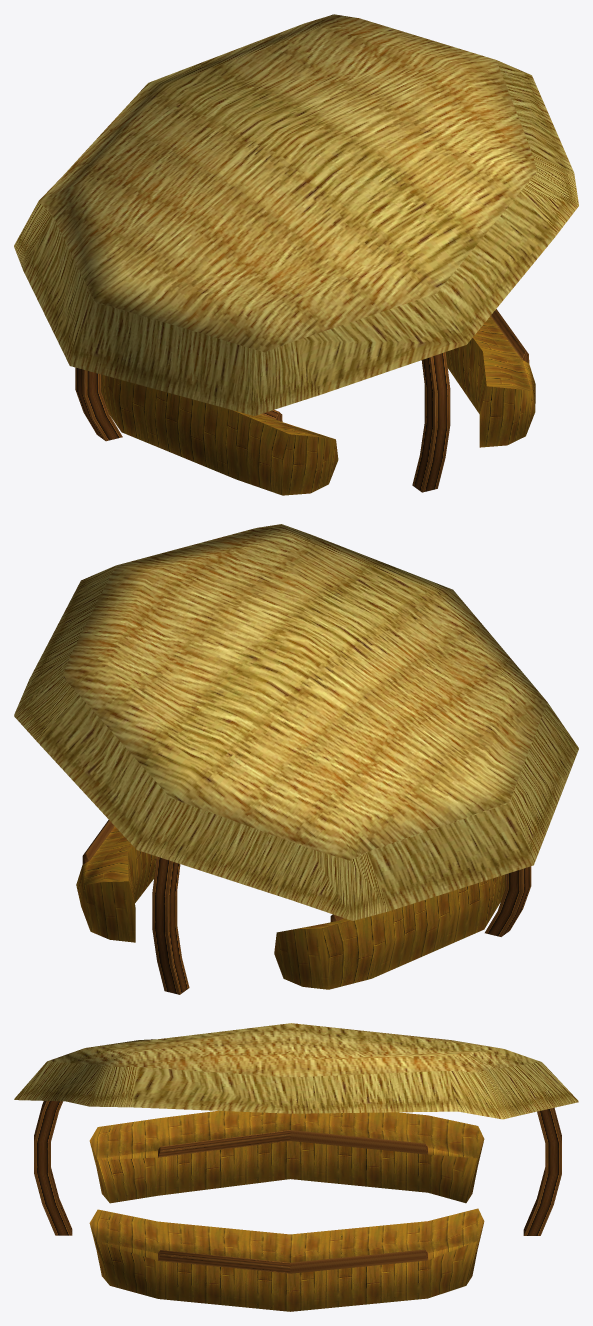
The model's file is INST_HTOWN_SPICESTAND.fbx.
3 views of the same model, one above another, from view 1: azimuth 30°, elevation 25°; view 2: azimuth 150°, elevation 25°; view 3: azimuth 270°, elevation 25° (orthographic). The views are drawn at different scales.
Parts seen in each view (by area): view 1: INST_HTOWN_SPICESTAND; view 2: INST_HTOWN_SPICESTAND; view 3: INST_HTOWN_SPICESTAND.
Part boxes in pixels (<box>): INST_HTOWN_SPICESTAND: <box>14,14,578,495</box>; INST_HTOWN_SPICESTAND: <box>14,524,578,994</box>; INST_HTOWN_SPICESTAND: <box>14,1023,578,1311</box>.
Bounding box in the file's own units: 49984 × 29243 × 61729.
4 materials, 4 textured.
